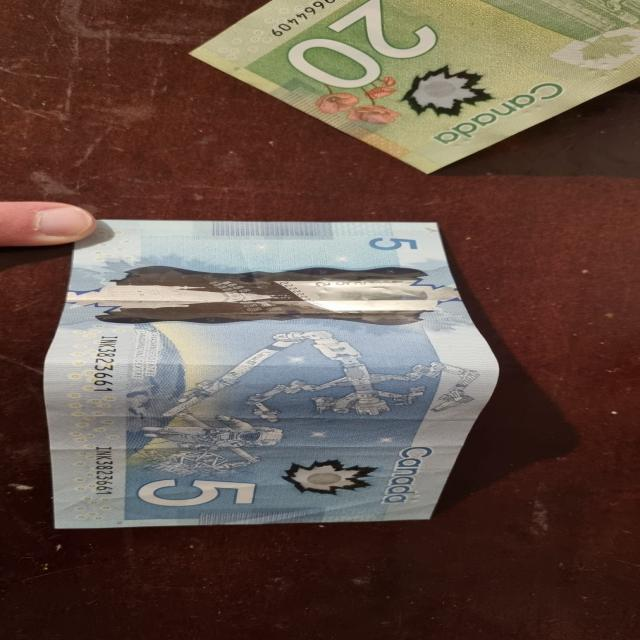20 cad: (187, 1, 640, 176)
5 cad: (56, 218, 443, 528)
